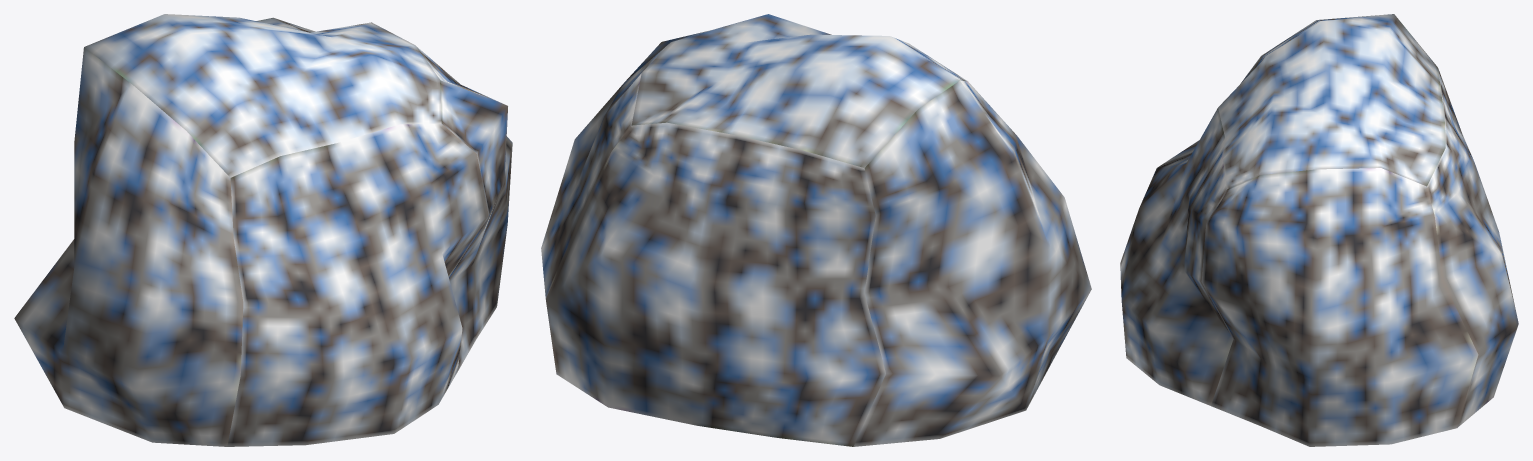
The model's file is medium_snowy_Rock.fbx.
The picture shows the model from 3 angles, left to right: view 1: azimuth 30°, elevation 25°; view 2: azimuth 150°, elevation 25°; view 3: azimuth 270°, elevation 25°; orthographic projection. The views are drawn at different scales.
Visible parts, largest first — view 1: medium_snowy_Rock; view 2: medium_snowy_Rock; view 3: medium_snowy_Rock.
Boxes of the visible parts, bbox=[...] form: medium_snowy_Rock: bbox=[14, 14, 512, 446]; medium_snowy_Rock: bbox=[541, 14, 1091, 446]; medium_snowy_Rock: bbox=[1120, 14, 1518, 446].
Size of the model in its own units: 1.65 by 1.17 by 1.41.
